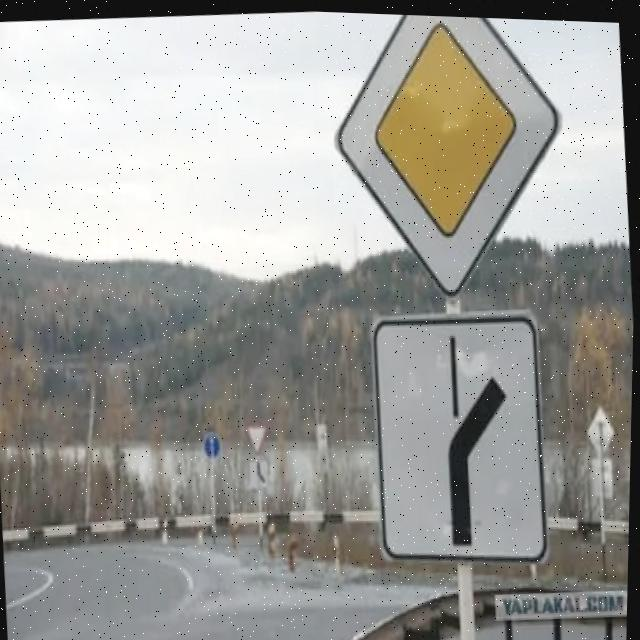signs: (323, 10, 575, 302)
